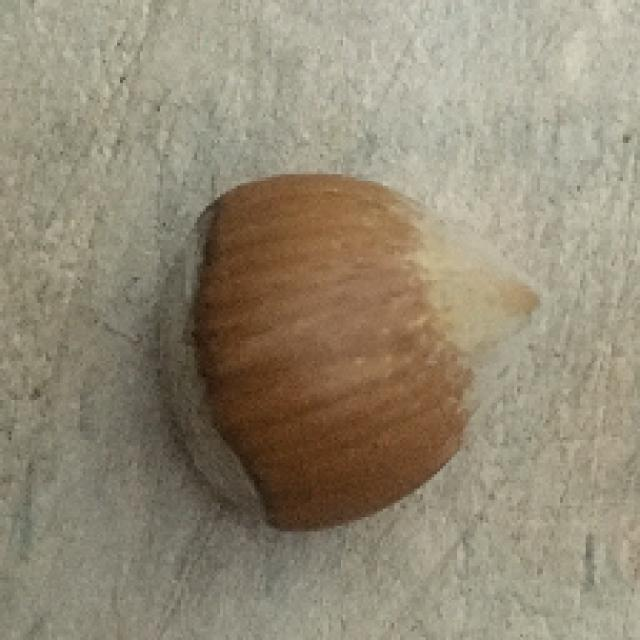qualityHazelnut: (143, 157, 542, 543)
